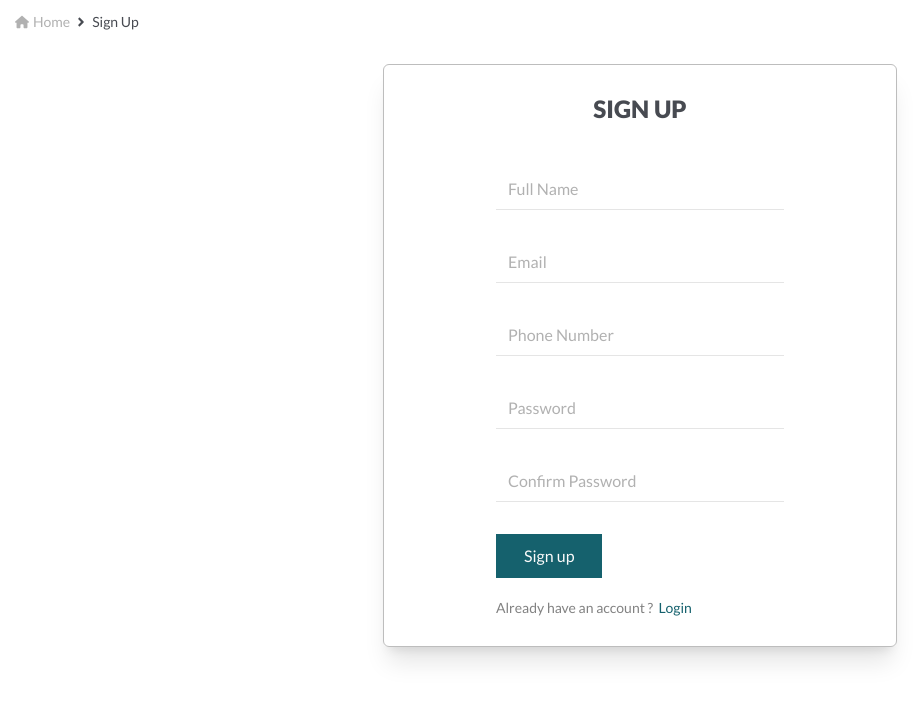
Scenario: Register Component › shows error message when passwords do not match
Type "tester" into the field labelled "full name". click: (640, 190)
box: [496,169,784,210]
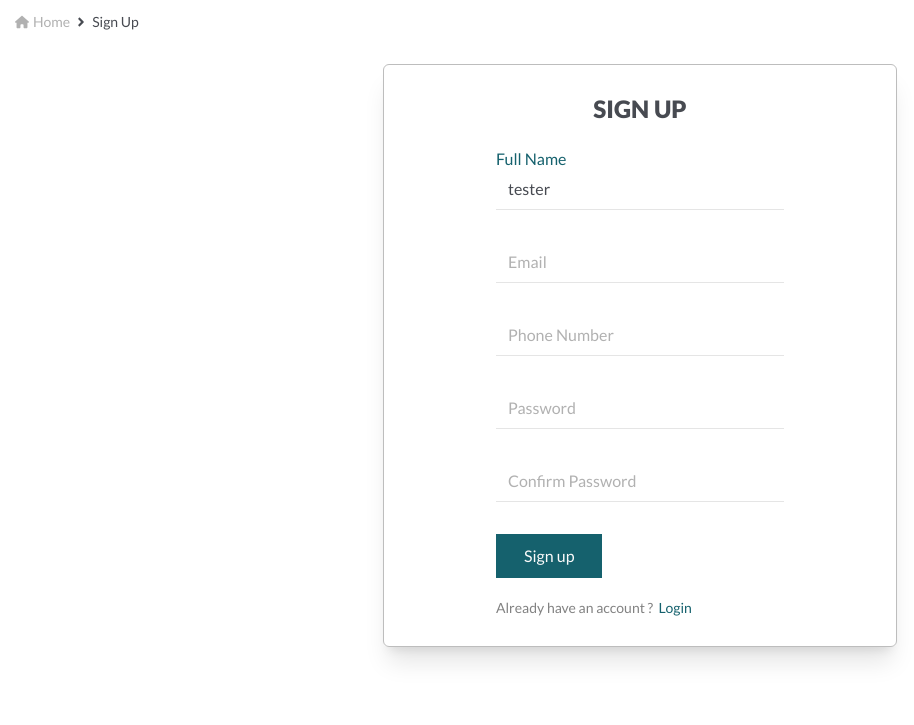
Type "tester@gmail.com" into the field labelled "email". click: (640, 262)
box: [496,242,784,283]
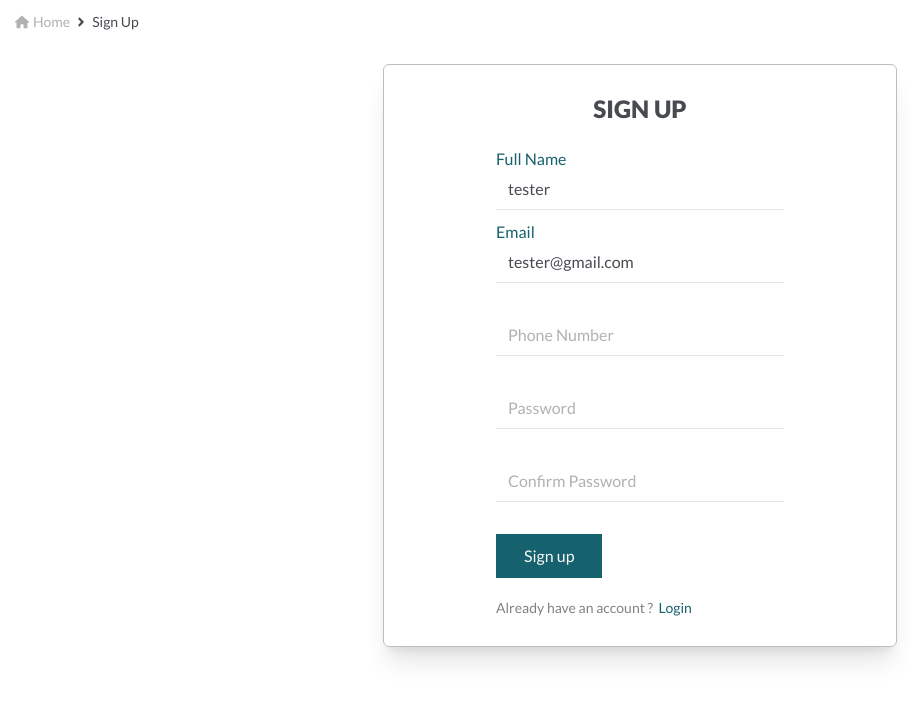
Type "123655224" into the field labelled "Phone Number". click: (640, 336)
box: [496,315,784,356]
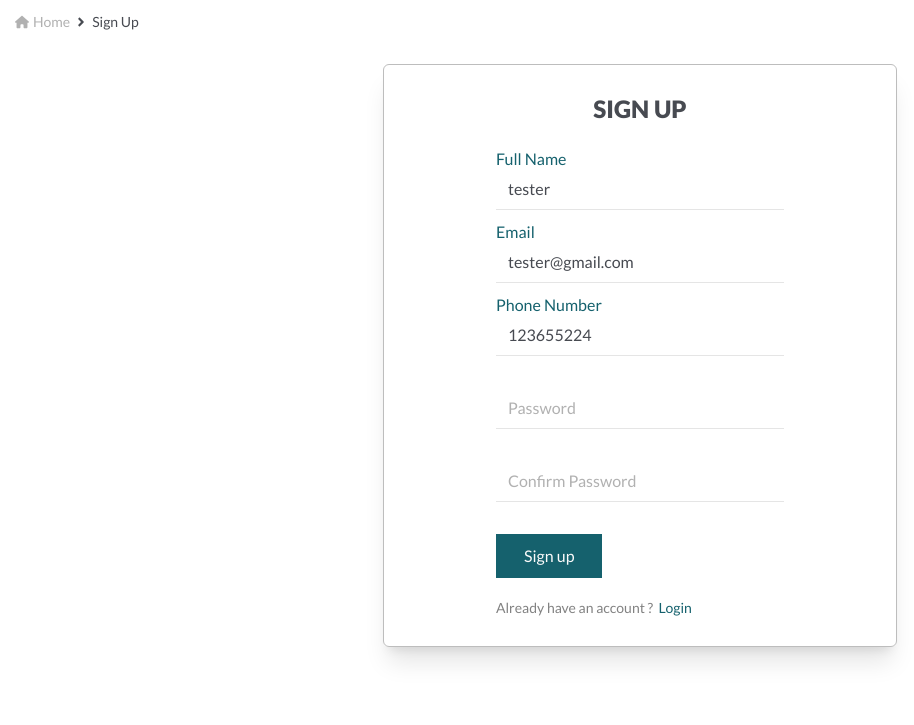
Type "password123" into the password field labelled "password". click: (640, 408)
box: [496,388,784,429]
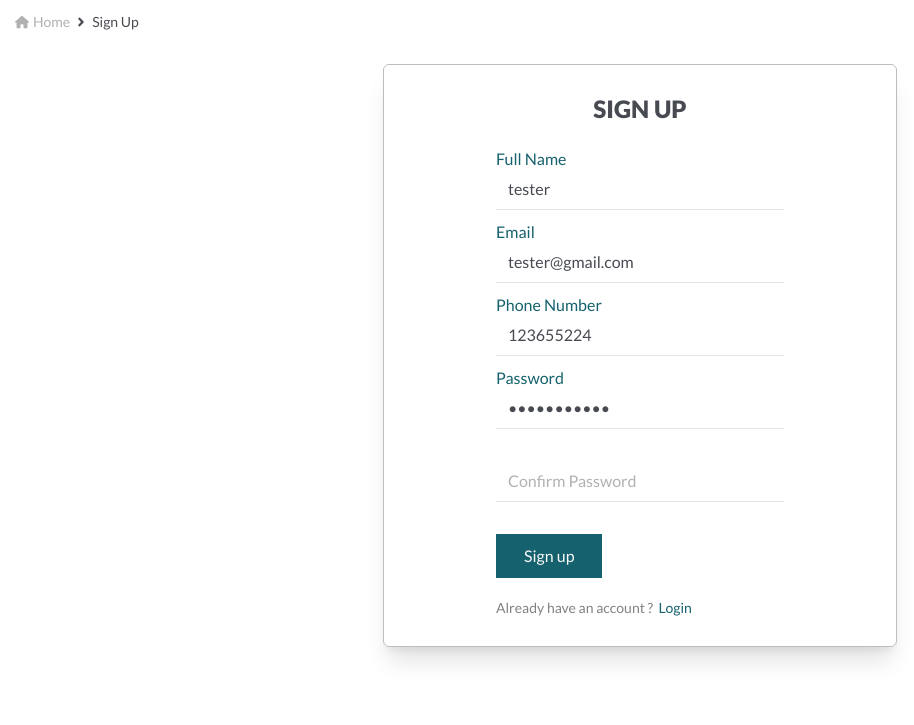
Type "password456" into the password field labelled "Confirm password". click: (640, 482)
box: [496,461,784,502]
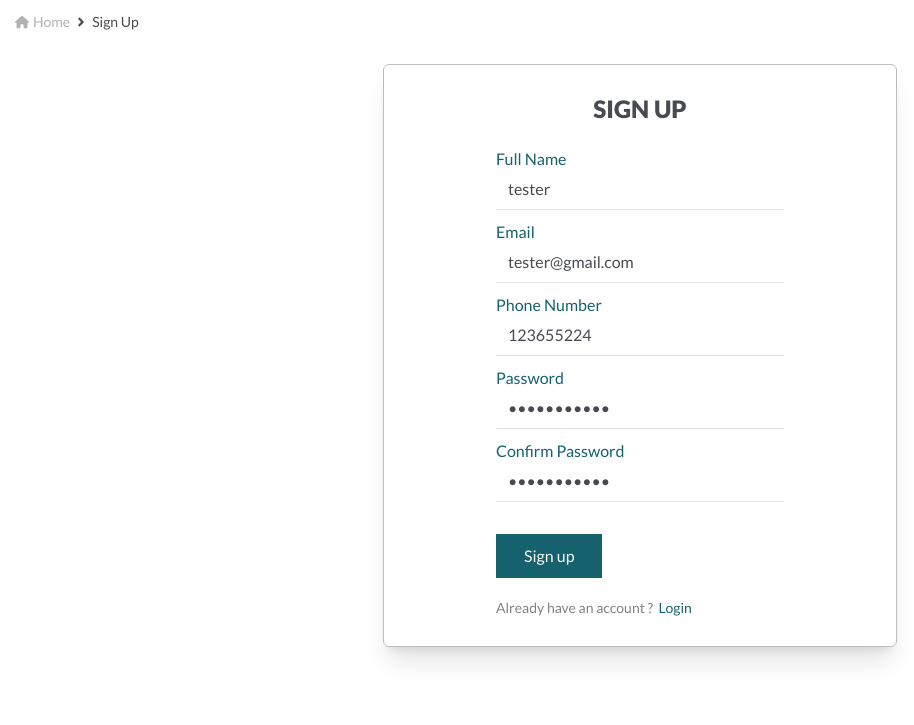
Click the button. click: click(549, 556)
box: [496,534,602,578]
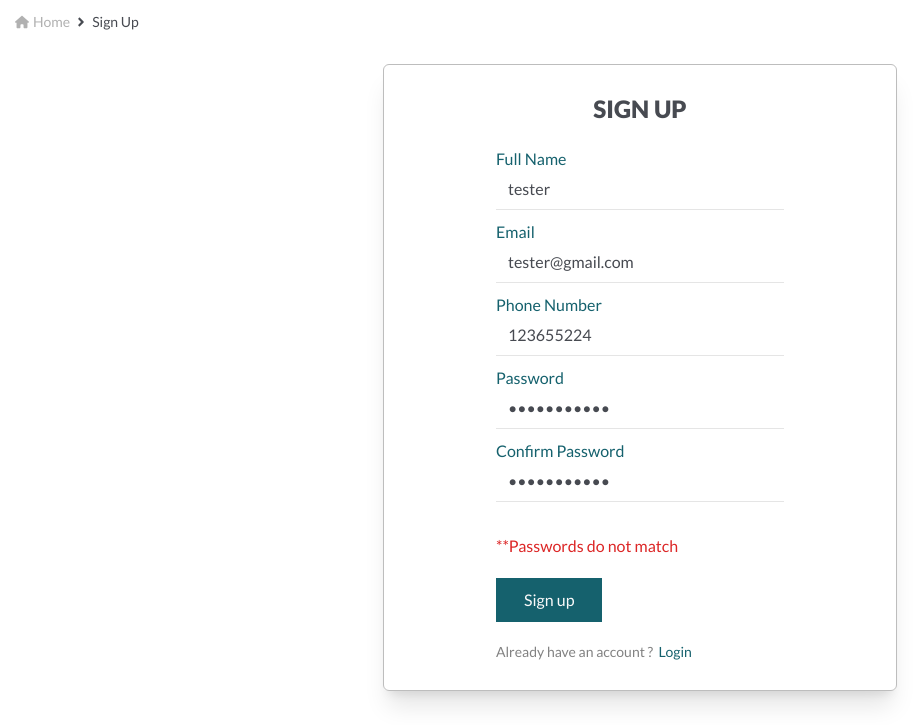
Expected: the text "**Passwords do not match" is shown, [496,534,678,558]
